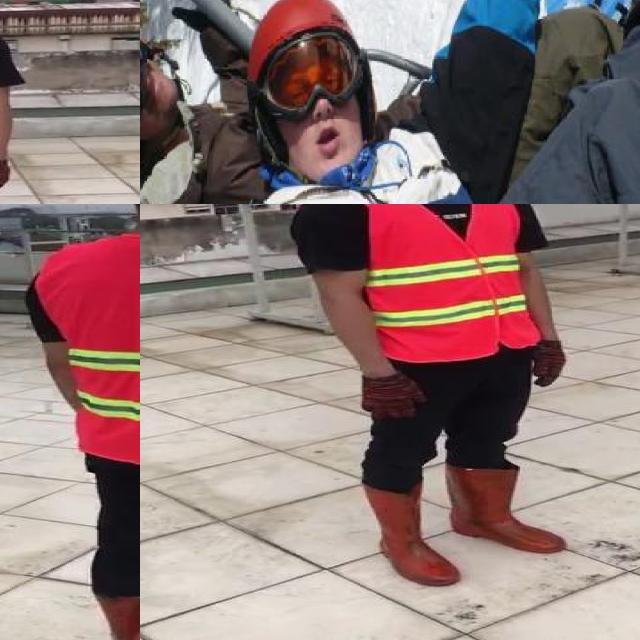boots: (444, 462, 568, 555), (360, 482, 460, 588), (90, 587, 140, 640)
face_nomask: (281, 74, 359, 160)
glasses: (257, 21, 363, 126)
hand_glove: (358, 375, 428, 420), (538, 341, 564, 389), (0, 157, 8, 196)
head_helmet: (238, 0, 362, 68)
person: (279, 204, 592, 594), (181, 0, 640, 204), (19, 204, 140, 640)
vest: (365, 204, 541, 360), (35, 237, 140, 468)
